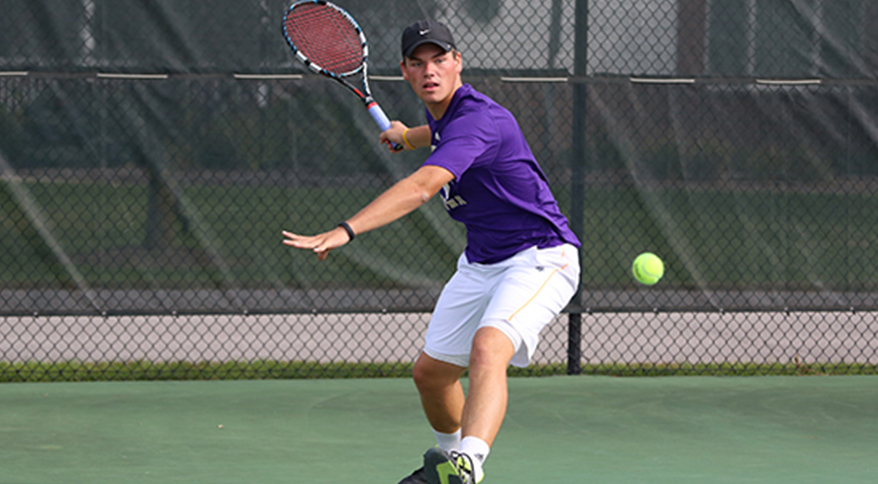tennis ball: (630, 251, 668, 287)
tennis player: (285, 3, 583, 484)
